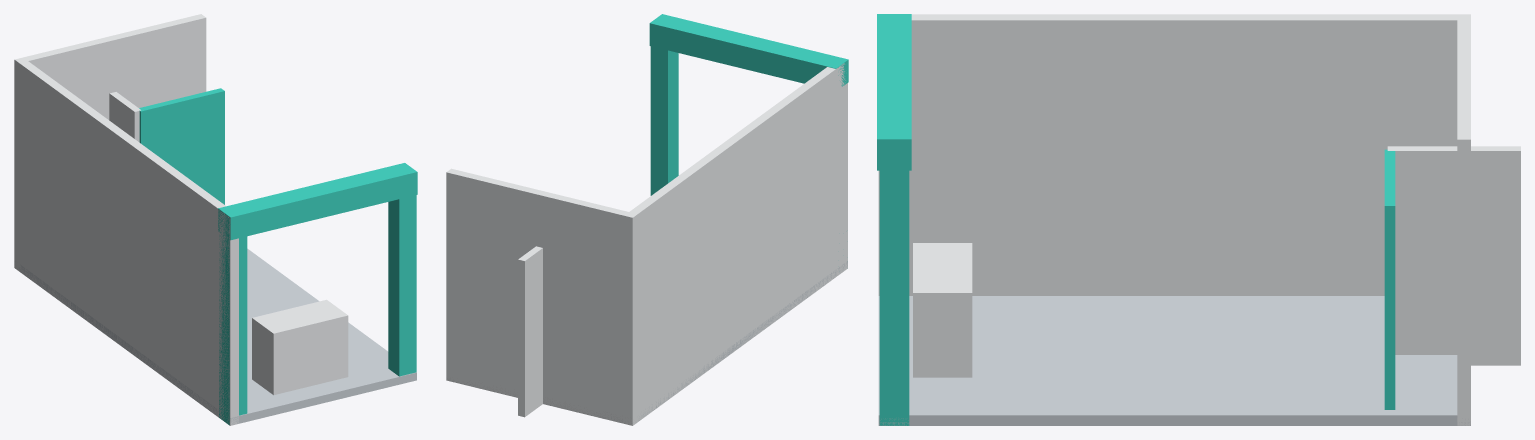
The picture shows the model from 3 angles, left to right: view 1: azimuth 30°, elevation 25°; view 2: azimuth 150°, elevation 25°; view 3: azimuth 270°, elevation 25°; orthographic projection. The views are drawn at different scales.
Parts seen in each view (by area): view 1: Exhibition Booth Concept; view 2: Exhibition Booth Concept; view 3: Exhibition Booth Concept.
Boxes of the visible parts, x1,y1,x2,y2 form: Exhibition Booth Concept: (14, 14, 417, 425); Exhibition Booth Concept: (446, 14, 848, 425); Exhibition Booth Concept: (877, 14, 1520, 425).
Bounding box in the file's own units: 3 × 3.2 × 6.52.
